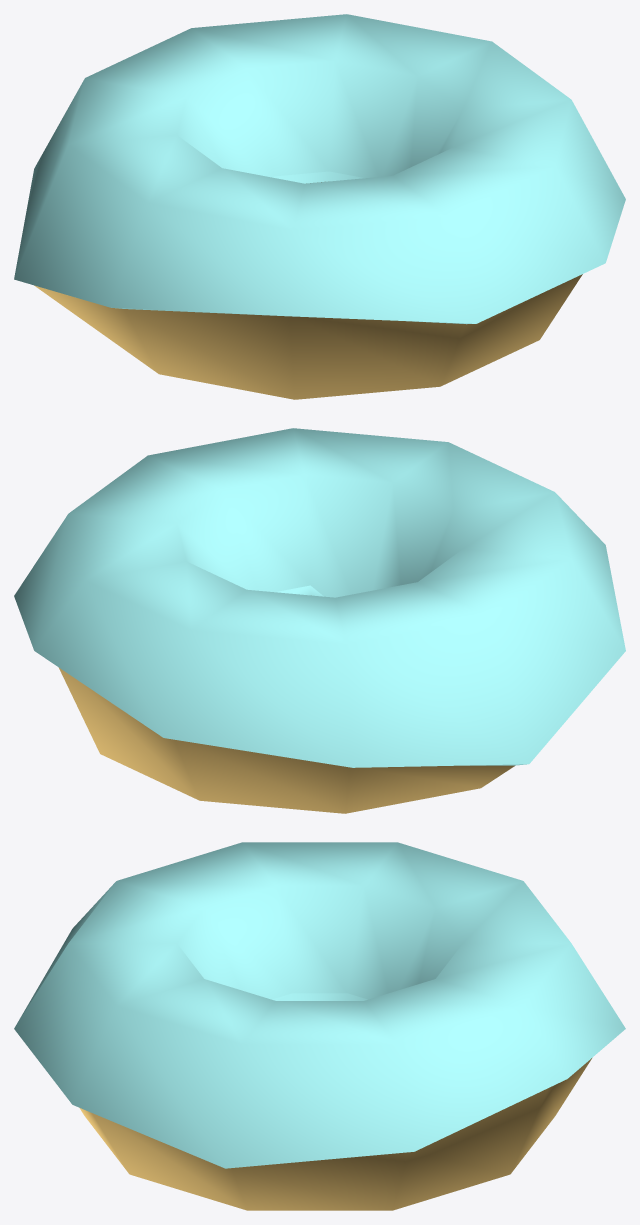
File: Unwrapped_Donut1.fbx
3 views of the same model, one above another, from view 1: azimuth 30°, elevation 25°; view 2: azimuth 150°, elevation 25°; view 3: azimuth 270°, elevation 25° (orthographic). The views are drawn at different scales.
Parts seen in each view (by area): view 1: Torus002; view 2: Torus002; view 3: Torus002.
Part boxes in pixels (x1=…): Torus002: x1=14, y1=14, x2=625, y2=399; Torus002: x1=14, y1=428, x2=625, y2=813; Torus002: x1=14, y1=842, x2=625, y2=1210.
Size of the model in its own units: 39.5 by 12.92 by 41.54.
